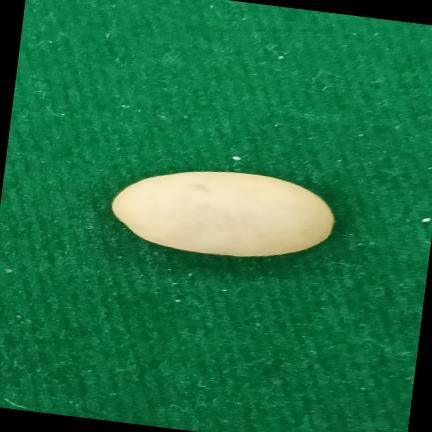parchment: (112, 171, 335, 256)
